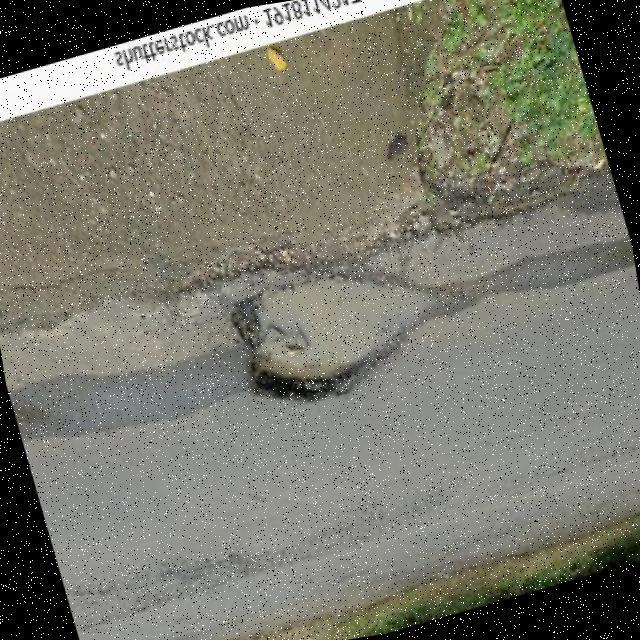Pothole: (232, 276, 478, 403)
